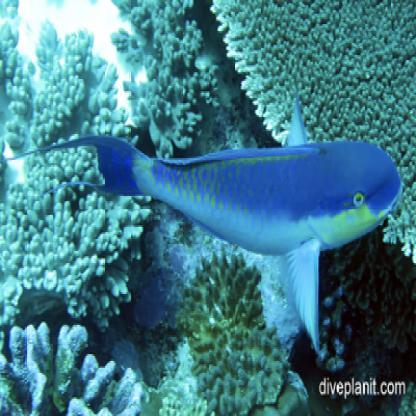Bio: (6, 98, 400, 349)
